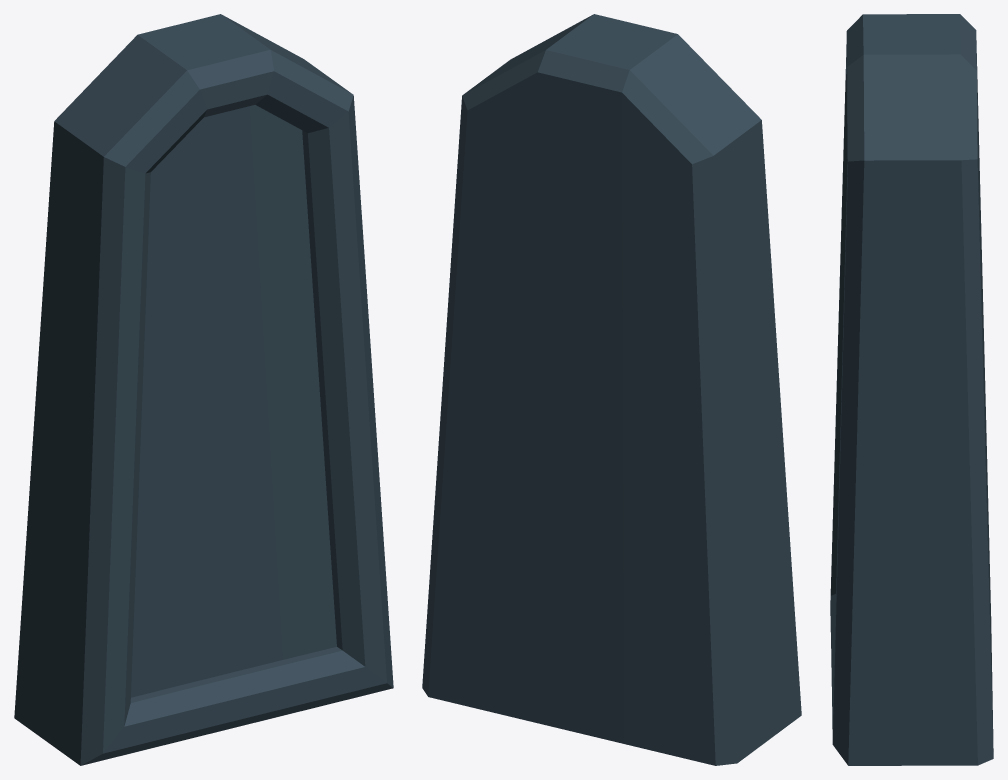
The model's file is grave4.glb.
3 renders of one model, left to right at view 1: azimuth 30°, elevation 25°; view 2: azimuth 150°, elevation 25°; view 3: azimuth 270°, elevation 25°, orthographic.
Parts seen in each view (by area): view 1: grave4; view 2: grave4; view 3: grave4.
Boxes of the visible parts, bbox=[...] form: grave4: bbox=[14, 14, 393, 765]; grave4: bbox=[422, 14, 801, 765]; grave4: bbox=[830, 14, 993, 765].
Size of the model in its own units: 0.9299 by 1.86 by 0.4209.
